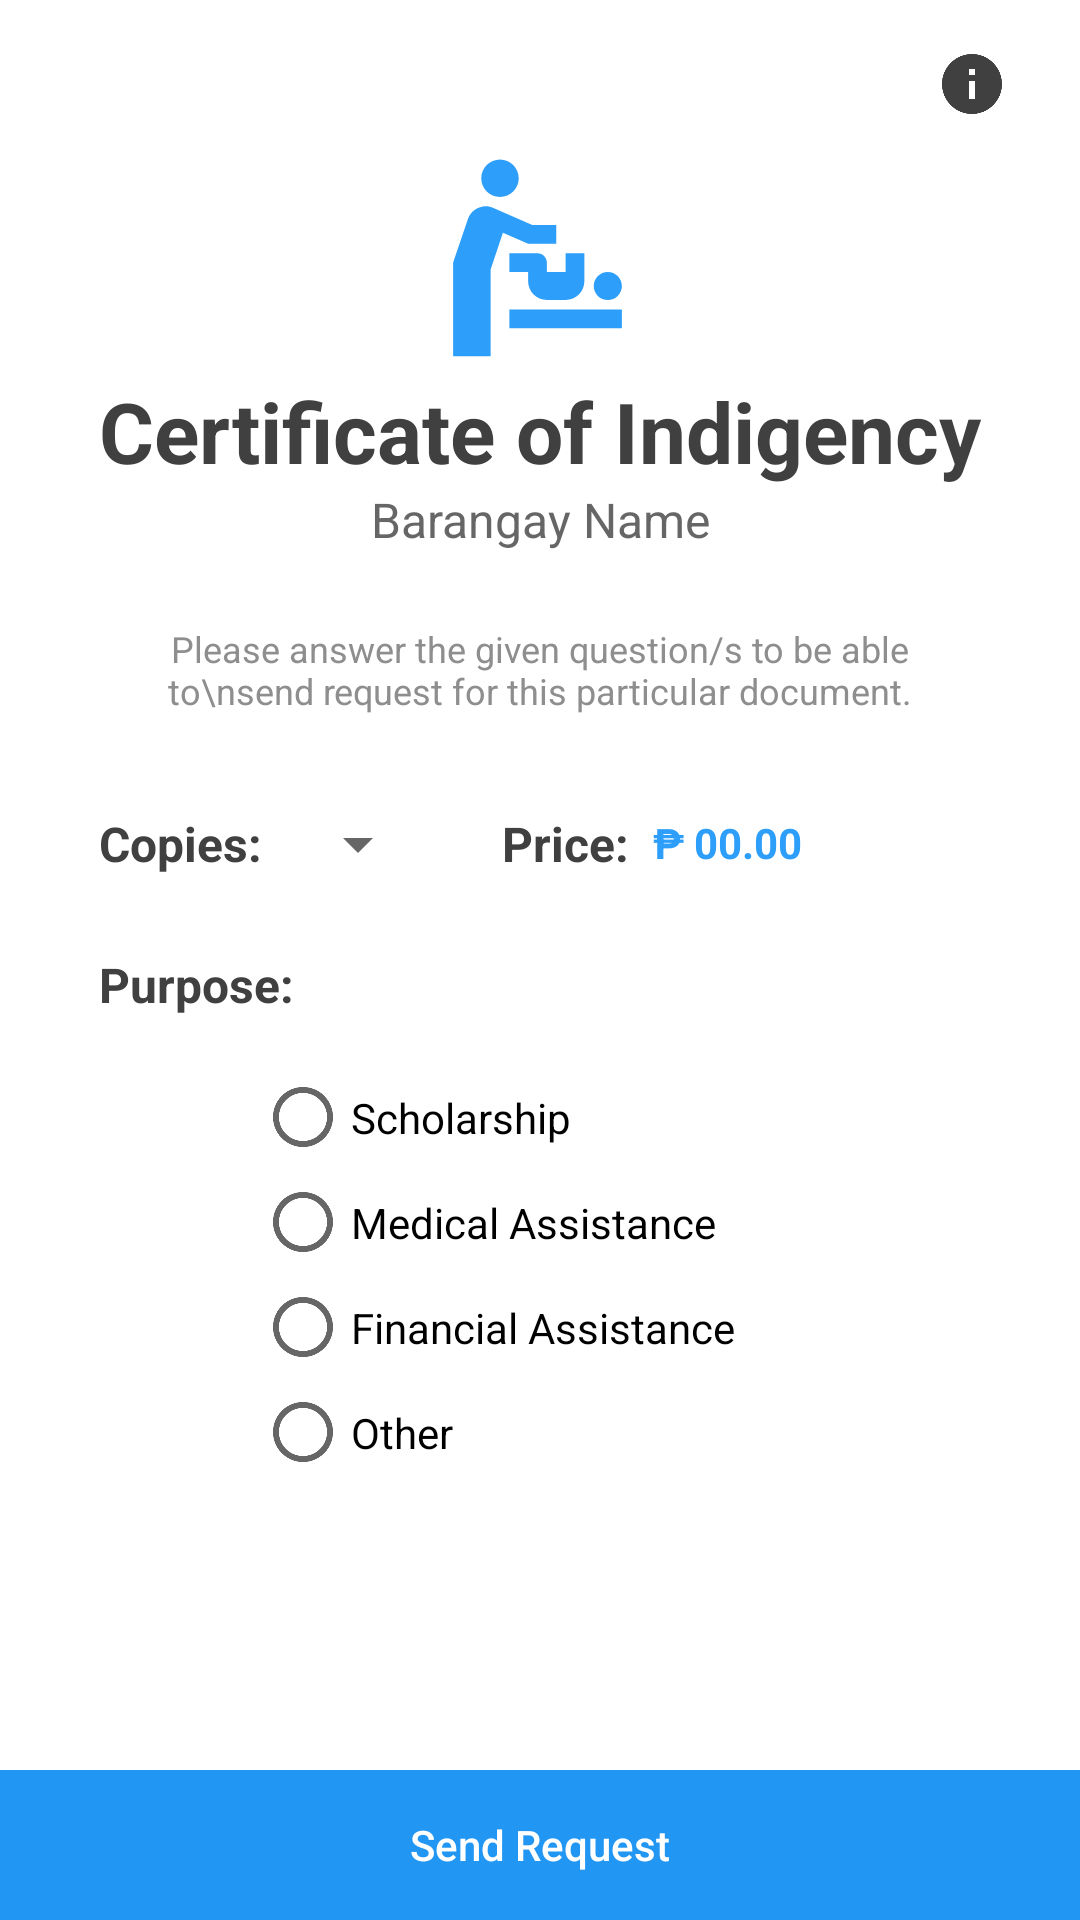

Named icons in this screenshot (1080x1920) and their centers, (x,y):
baby changing station: (537,258)
info: (972,84)
